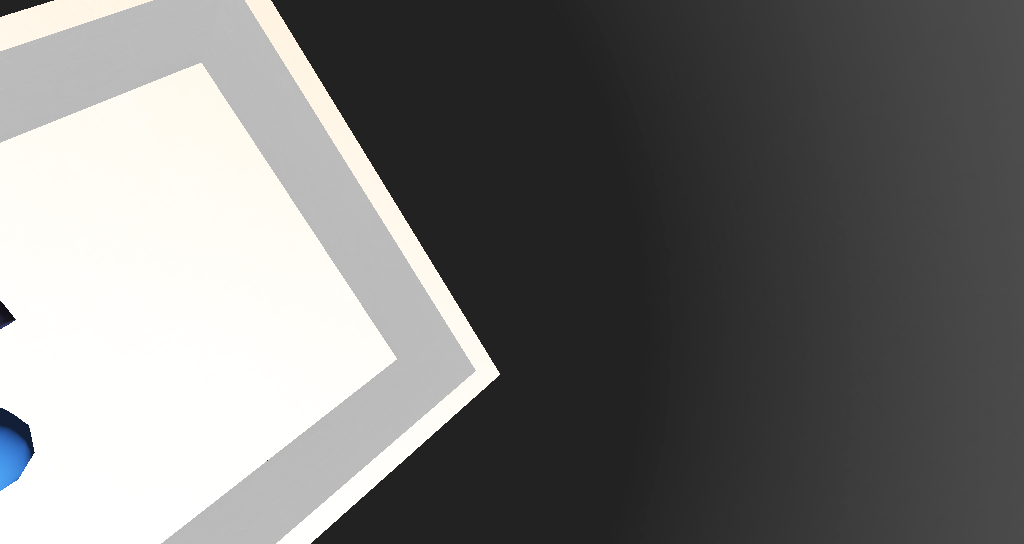cone: (397, 191, 451, 239)
sphere: (354, 258, 414, 305)
